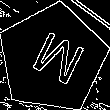M_SW: (21, 25, 84, 91)
